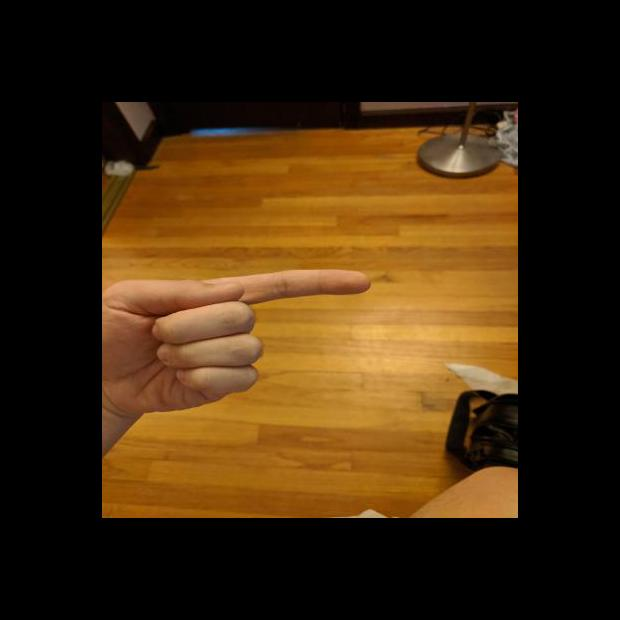F: (102, 266, 379, 417)
